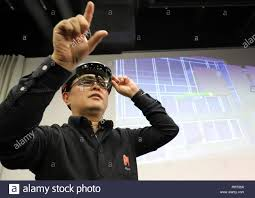hololens: (63, 62, 115, 97)
